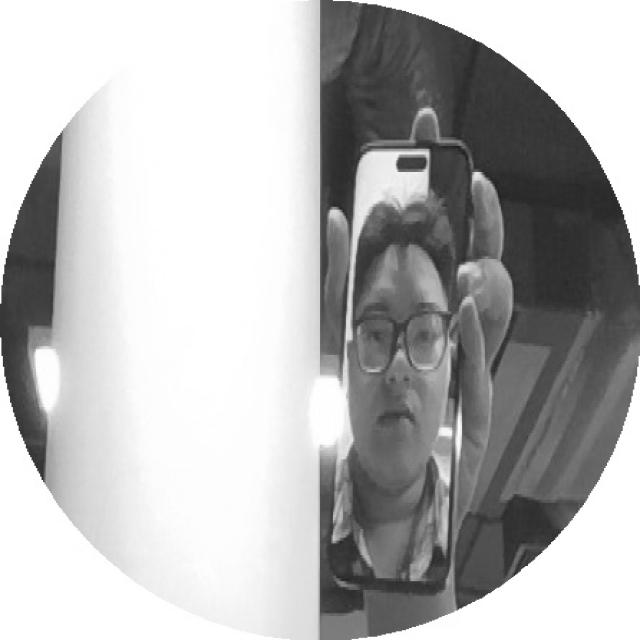fake: (316, 134, 487, 595), (320, 140, 468, 597)
